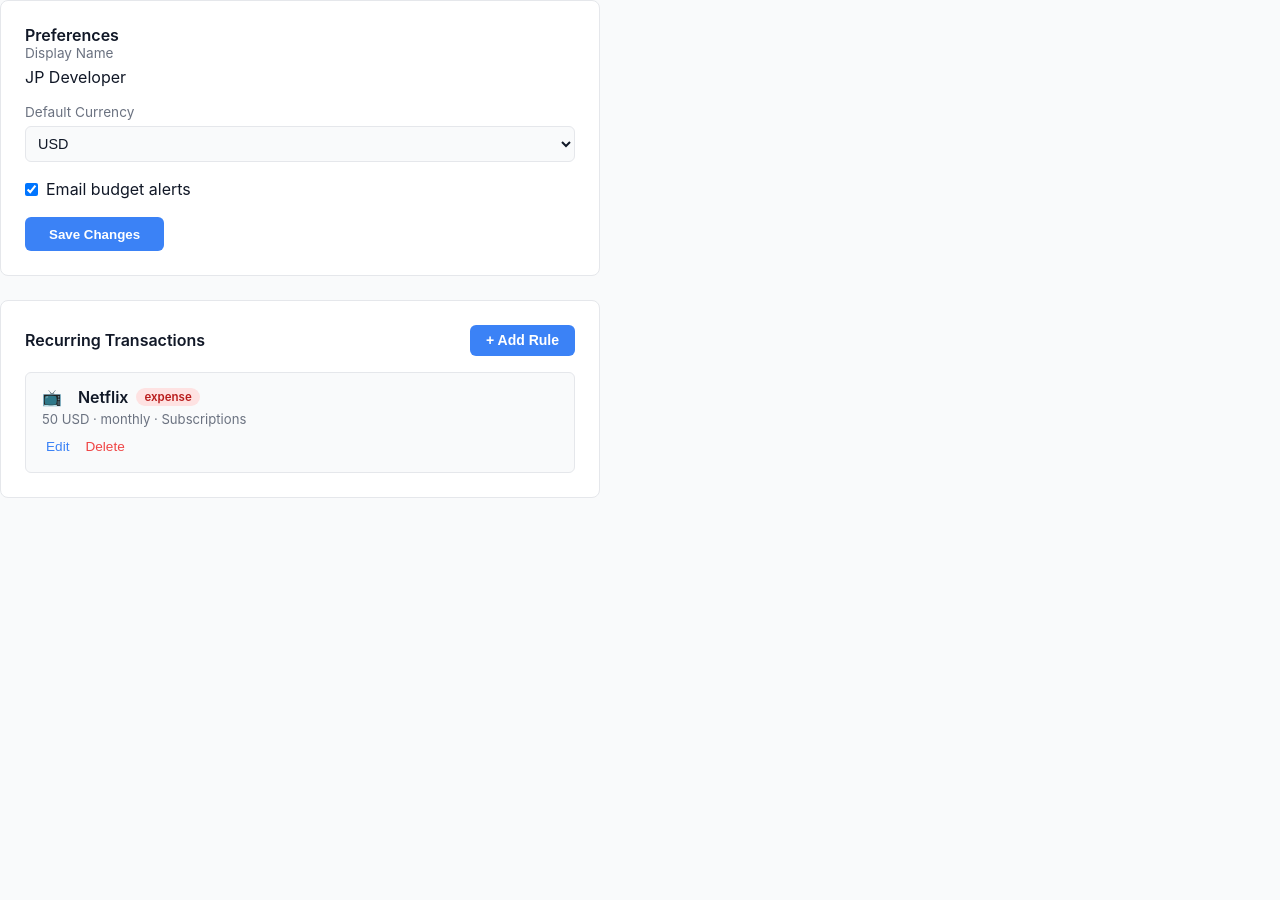
Test: SettingsPage › opens edit modal when Edit is clicked
Click the button "Edit": (58, 446) [42,435,73,458]
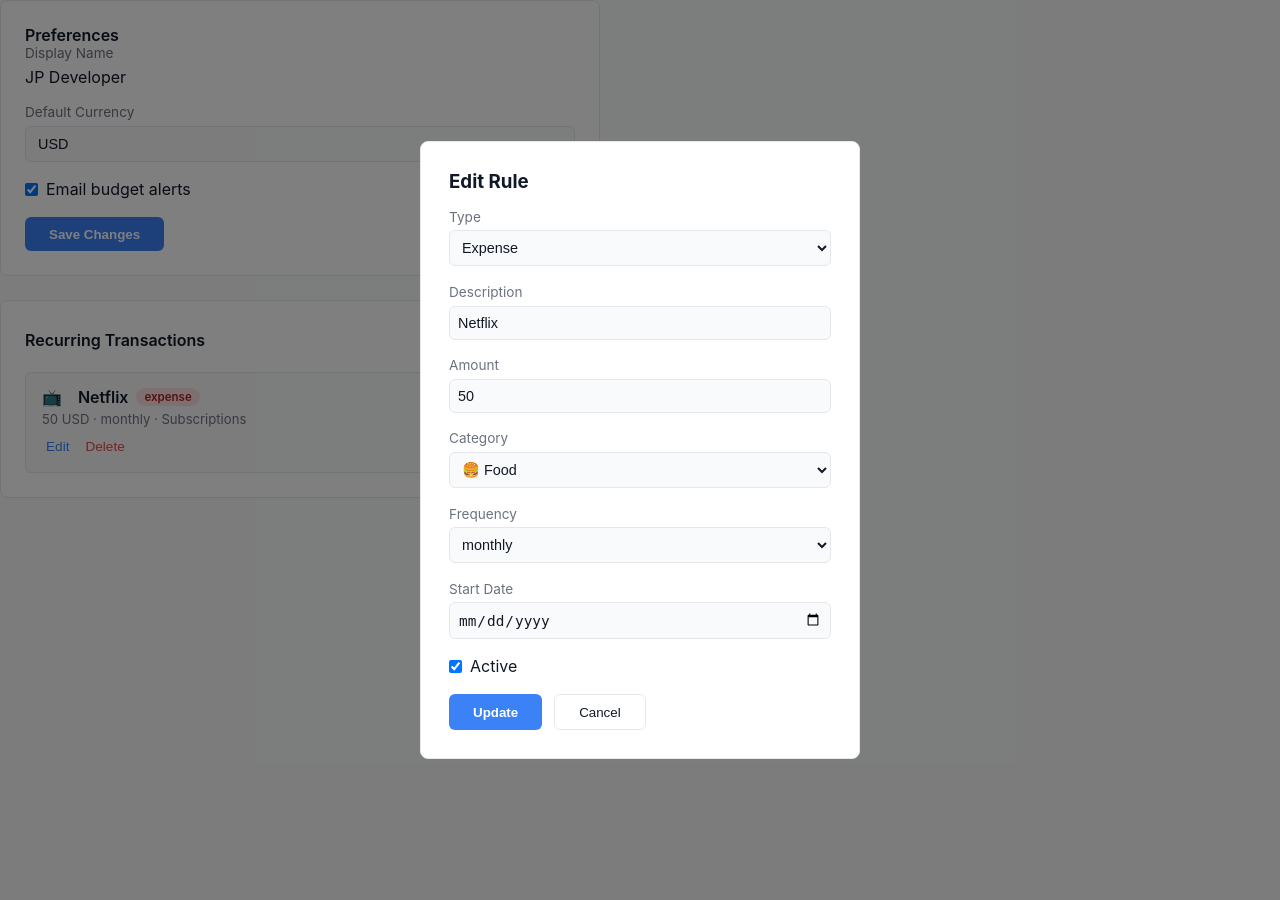
Check: the heading "Edit Rule" is shown, box [449,170,529,193]
Check: the field showing "Netflix" is shown, box [449,306,831,340]
